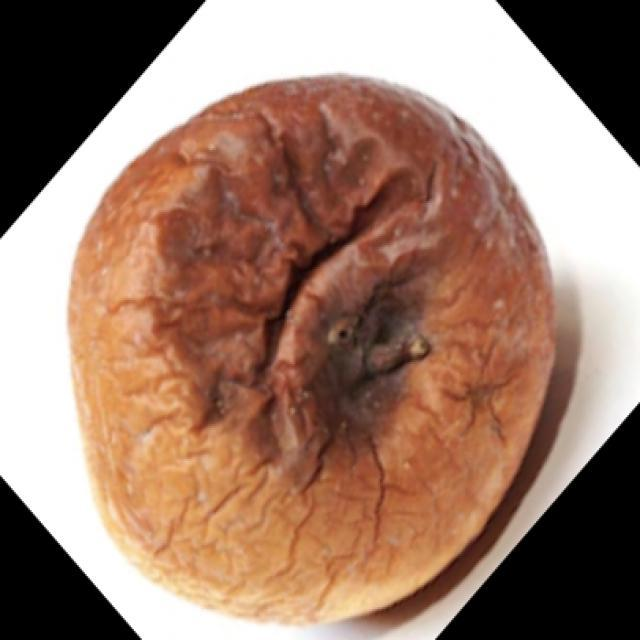Rotten: (78, 76, 548, 640)
